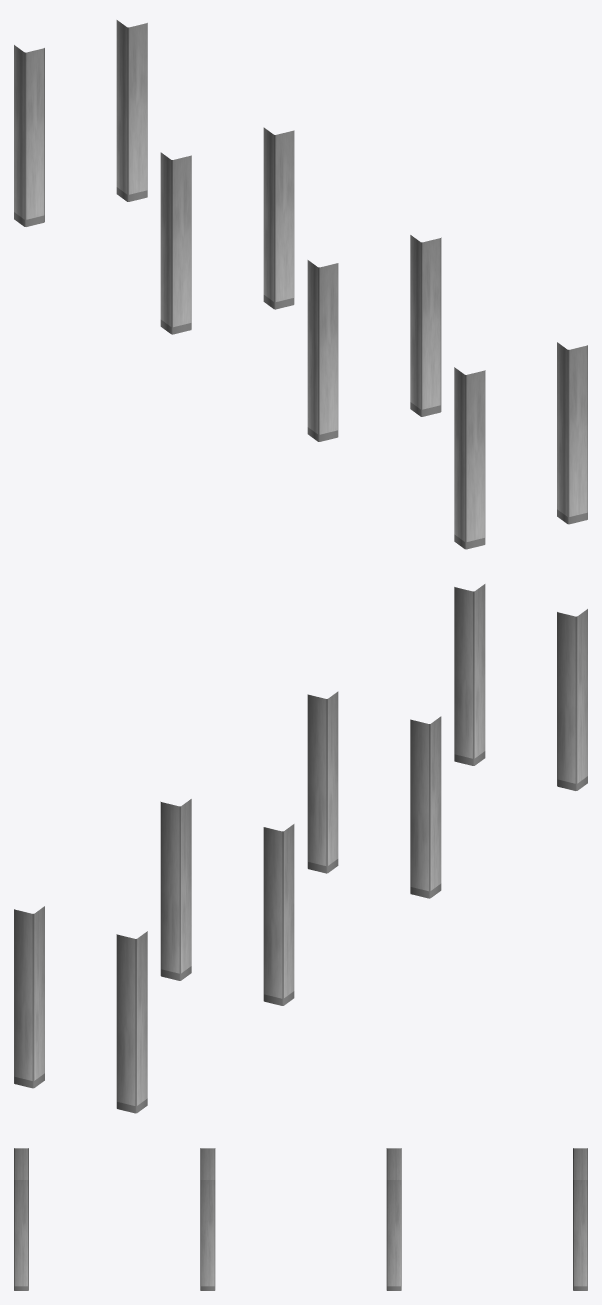
The model's file is AMB_ST_2CHU.glb.
3 views of the same model, one above another, from view 1: azimuth 30°, elevation 25°; view 2: azimuth 150°, elevation 25°; view 3: azimuth 270°, elevation 25° (orthographic). The views are drawn at different scales.
Visible parts, largest first — view 1: J02, J04, J06, J00; view 2: J04, J02, J00, J06; view 3: J04, J02, J06, J00.
Boxes of the visible parts, <box> form: J02: <box>160,127,294,334</box>; J04: <box>307,235,441,441</box>; J06: <box>454,342,587,549</box>; J00: <box>14,20,147,226</box>; J04: <box>307,691,441,898</box>; J02: <box>160,799,294,1005</box>; J00: <box>14,906,147,1113</box>; J06: <box>454,584,587,790</box>; J04: <box>200,1148,215,1290</box>; J02: <box>386,1148,401,1290</box>; J06: <box>14,1148,28,1290</box>; J00: <box>573,1148,587,1290</box>.
Size of the model in its own units: 12.1 by 16.4 by 77.
Materials: 8 (8 with a texture image).
